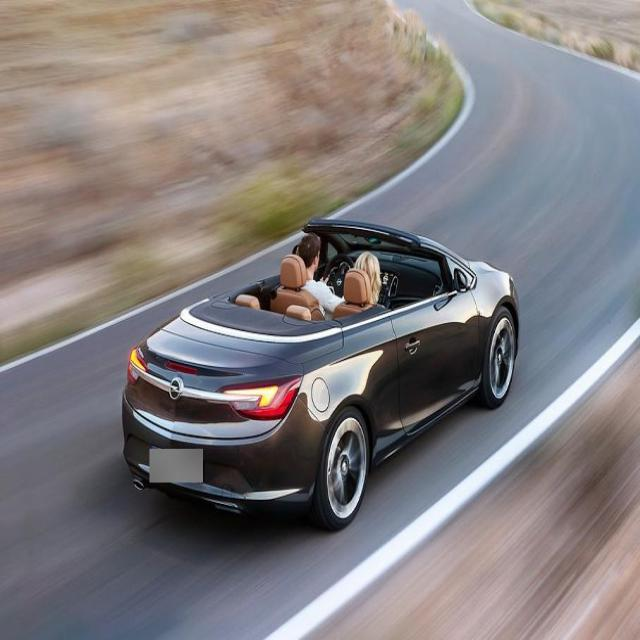back_left_side_light: (124, 342, 149, 392)
back_right_side_light: (215, 372, 303, 423)
front_glass: (309, 225, 449, 269)
front_right_side_door: (387, 277, 481, 443)
front_right_side_mirror: (450, 266, 470, 297)
rear_bumper: (120, 390, 328, 512)
wheel: (314, 406, 370, 530), (476, 308, 517, 410)
